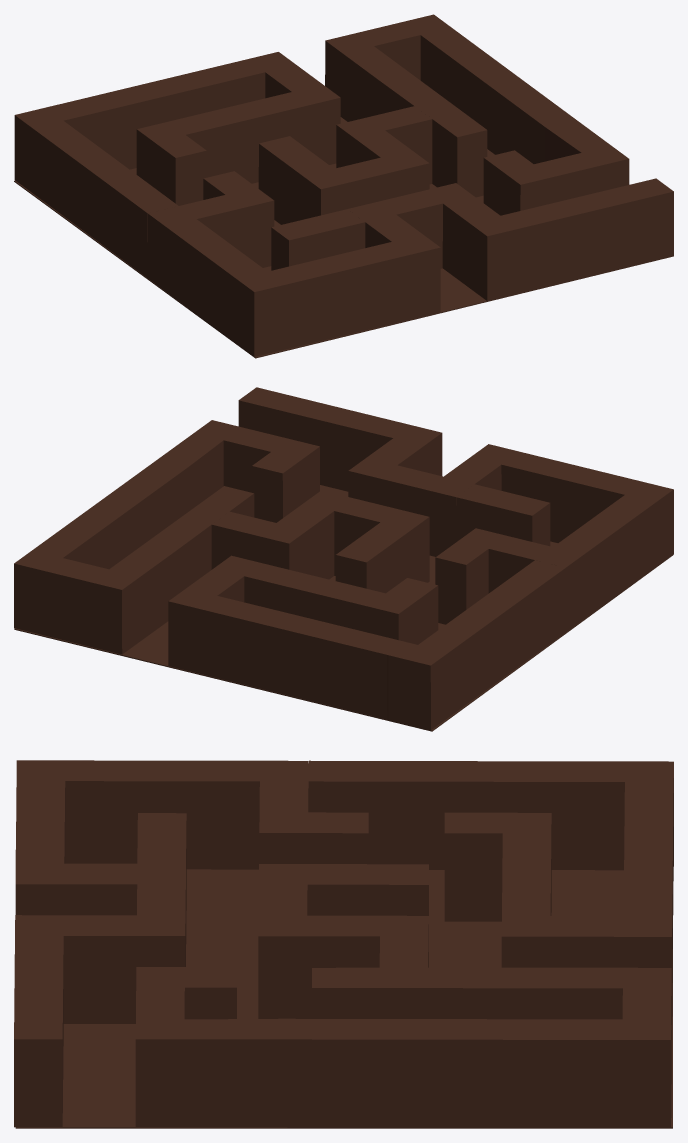
The model's file is Level 01.FBX.
3 renders of one model, top to bottom at view 1: azimuth 30°, elevation 25°; view 2: azimuth 150°, elevation 25°; view 3: azimuth 270°, elevation 25°, orthographic. The views are drawn at different scales.
Visible parts, largest first — view 1: Box001; view 2: Box001; view 3: Box001.
Boxes of the visible parts, box(x1,y1,x2,y2) form: Box001: box(14, 14, 673, 358); Box001: box(14, 387, 673, 731); Box001: box(14, 760, 673, 1128).
Bounding box in the file's own units: 54.24 × 8.17 × 54.24.
